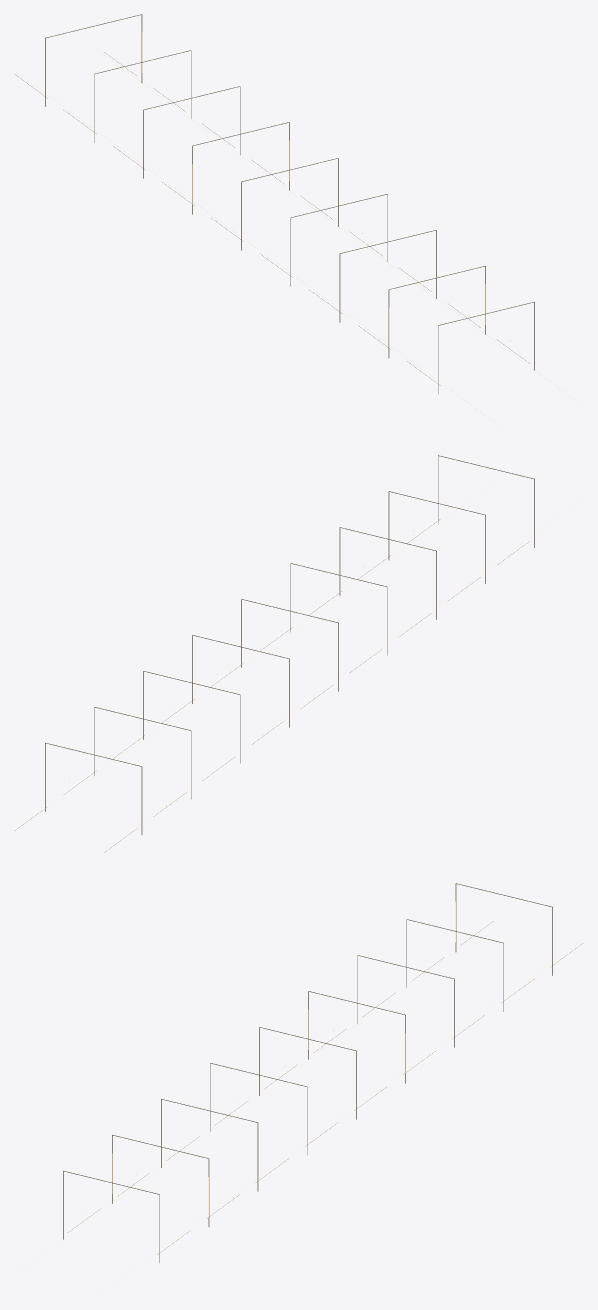
Rendered from summer-gallery.glb.
The picture shows the model from 3 angles, top to bottom: view 1: azimuth 30°, elevation 25°; view 2: azimuth 150°, elevation 25°; view 3: azimuth 330°, elevation 25°; orthographic projection.
Size of the model in its own units: 25.08 by 17.04 by 218.
